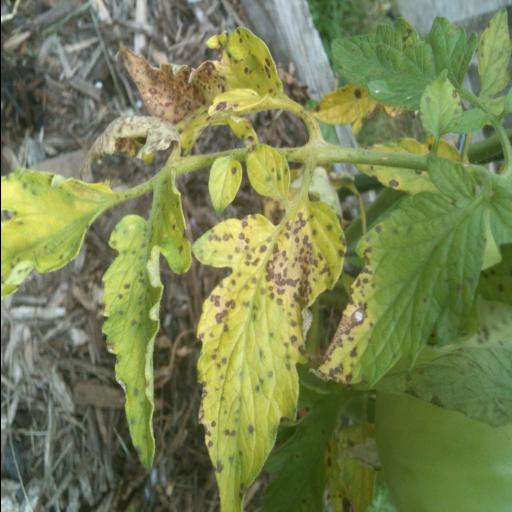Septoria: (188, 195, 348, 512), (306, 154, 494, 388), (99, 170, 195, 474), (114, 18, 286, 142), (0, 166, 114, 298), (328, 15, 438, 109), (417, 66, 461, 140), (244, 144, 294, 200), (205, 155, 244, 221)
